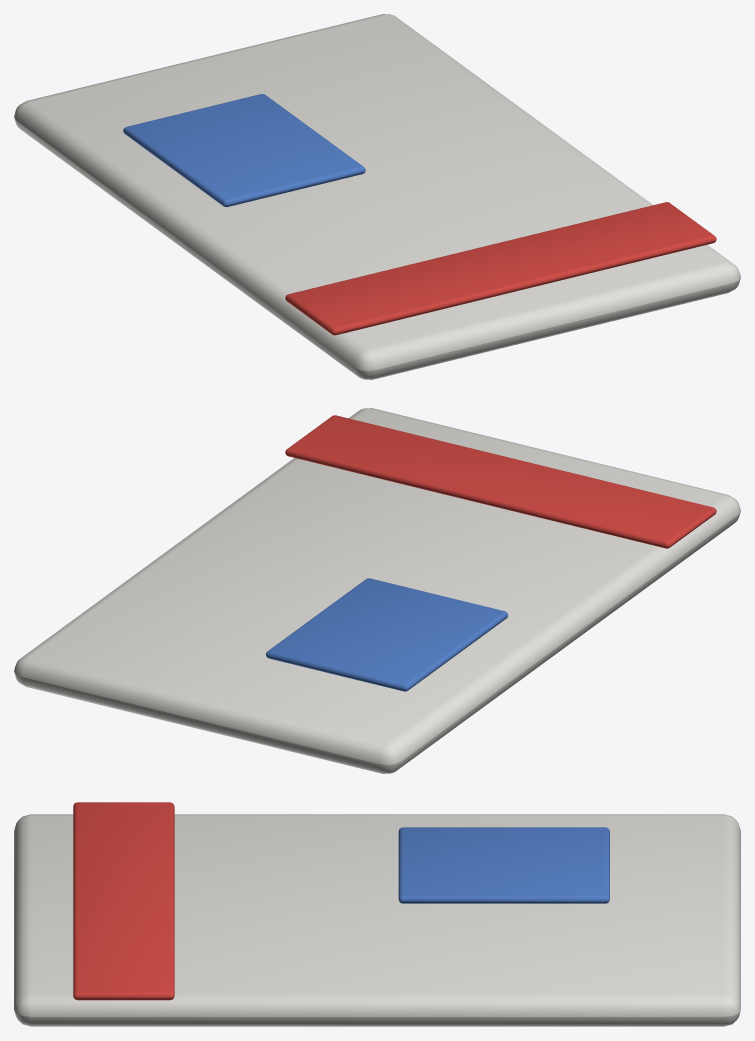
The model's file is badge.glb.
3 views of the same model, one above another, from view 1: azimuth 30°, elevation 25°; view 2: azimuth 150°, elevation 25°; view 3: azimuth 270°, elevation 25° (orthographic). The views are drawn at different scales.
Parts seen in each view (by area): view 1: card, stripe, photo; view 2: card, stripe, photo; view 3: card, stripe, photo.
Boxes of the visible parts, box(x1,y1,x2,y2) form: card: box(14, 14, 740, 379); stripe: box(285, 202, 716, 335); photo: box(123, 94, 365, 207); card: box(14, 408, 740, 773); stripe: box(285, 415, 716, 548); photo: box(266, 578, 508, 691); card: box(14, 814, 740, 1026); stripe: box(73, 802, 174, 1000); photo: box(398, 827, 609, 903).
Bounding box in the file's own units: 0.054 × 0.005 × 0.086.
